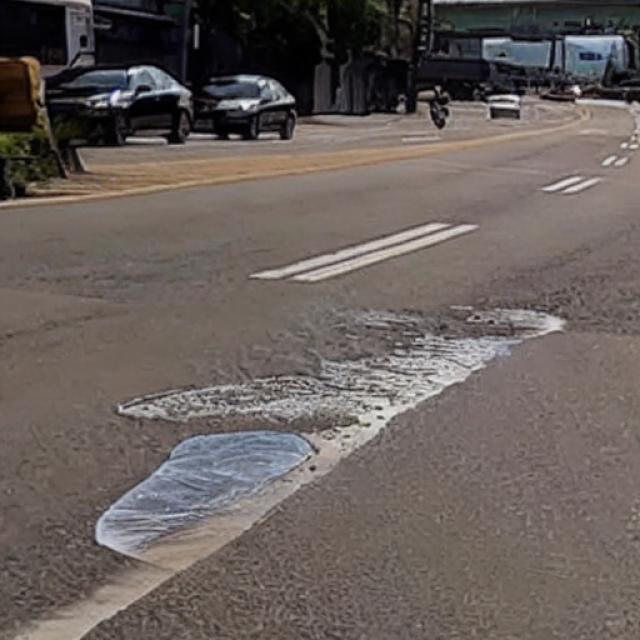puddle: (98, 432, 321, 578)
